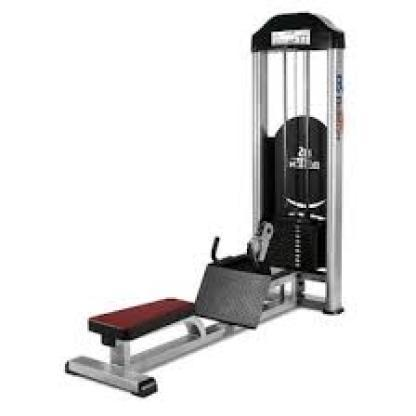Seated Cable Rows: (43, 13, 375, 401)
